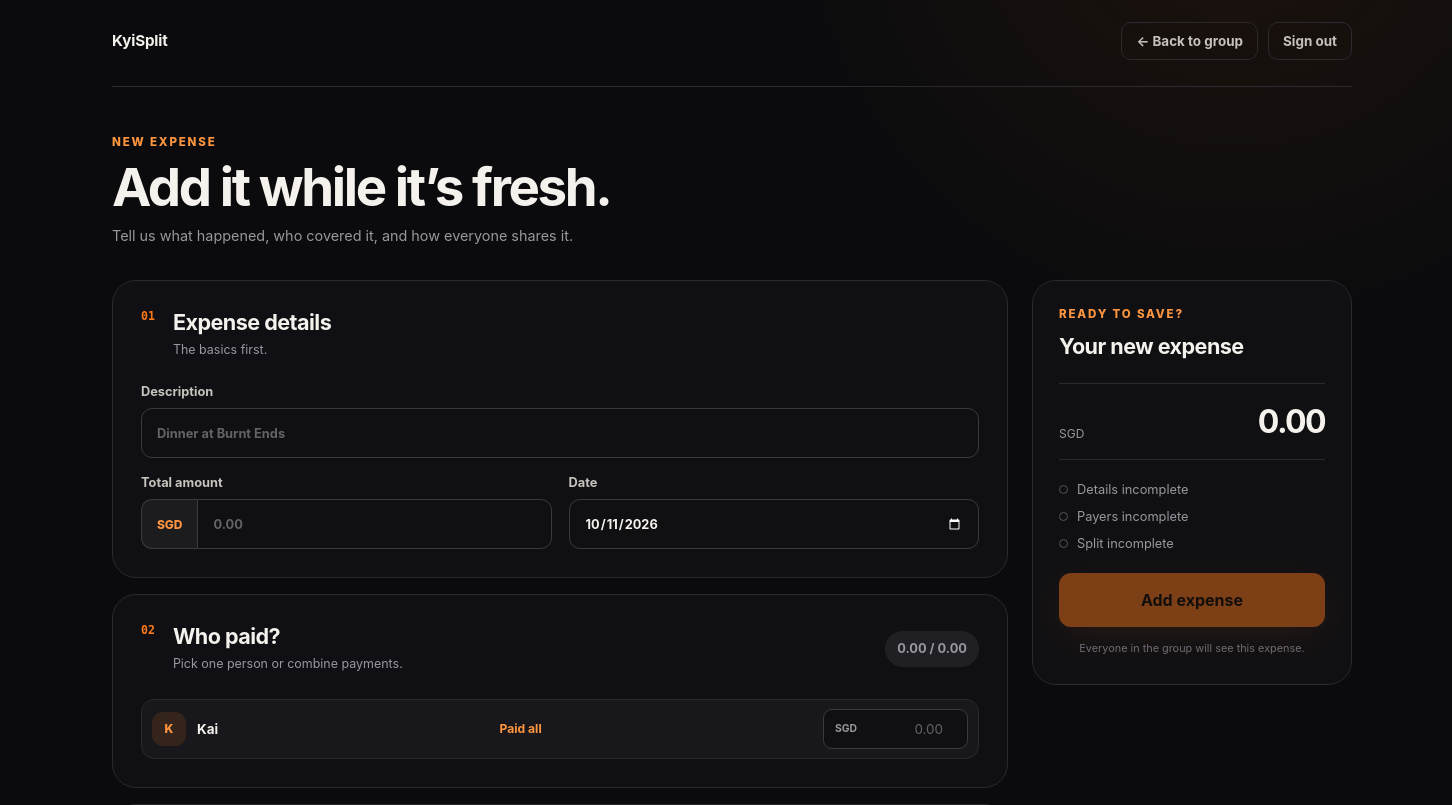
Scenario: describes review readiness without relying on color
The image size is (1452, 805).
Expected: the list item "Details incomplete" is shown, [1059, 482, 1188, 497]
Expected: the list item "Payers incomplete" is shown, [1059, 509, 1188, 524]
Type "Dinner" into the field labelled "Description". click: (560, 433)
box: [141, 408, 979, 458]
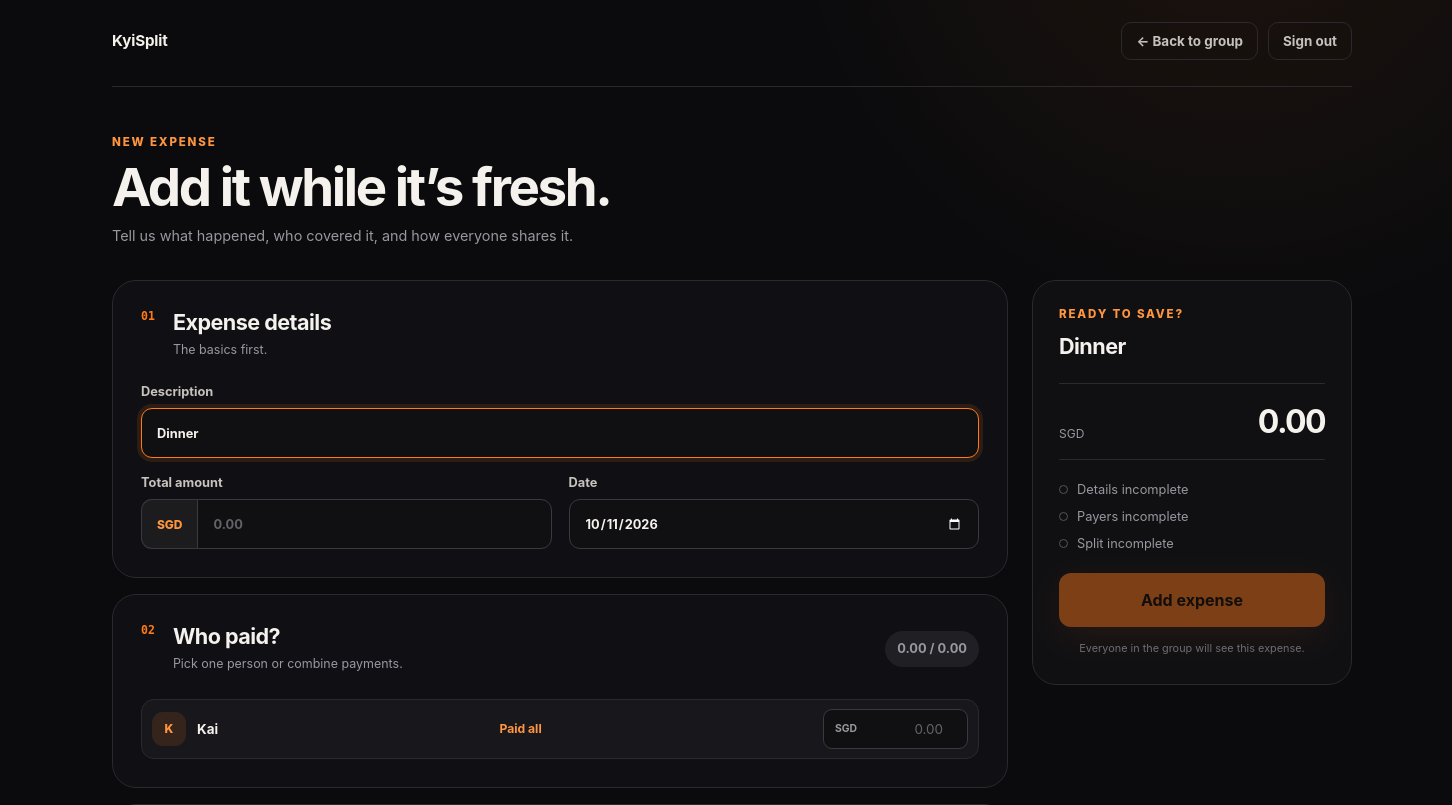
Type "10" into the number field labelled "Total amount". click: (374, 524)
box: [197, 499, 552, 549]
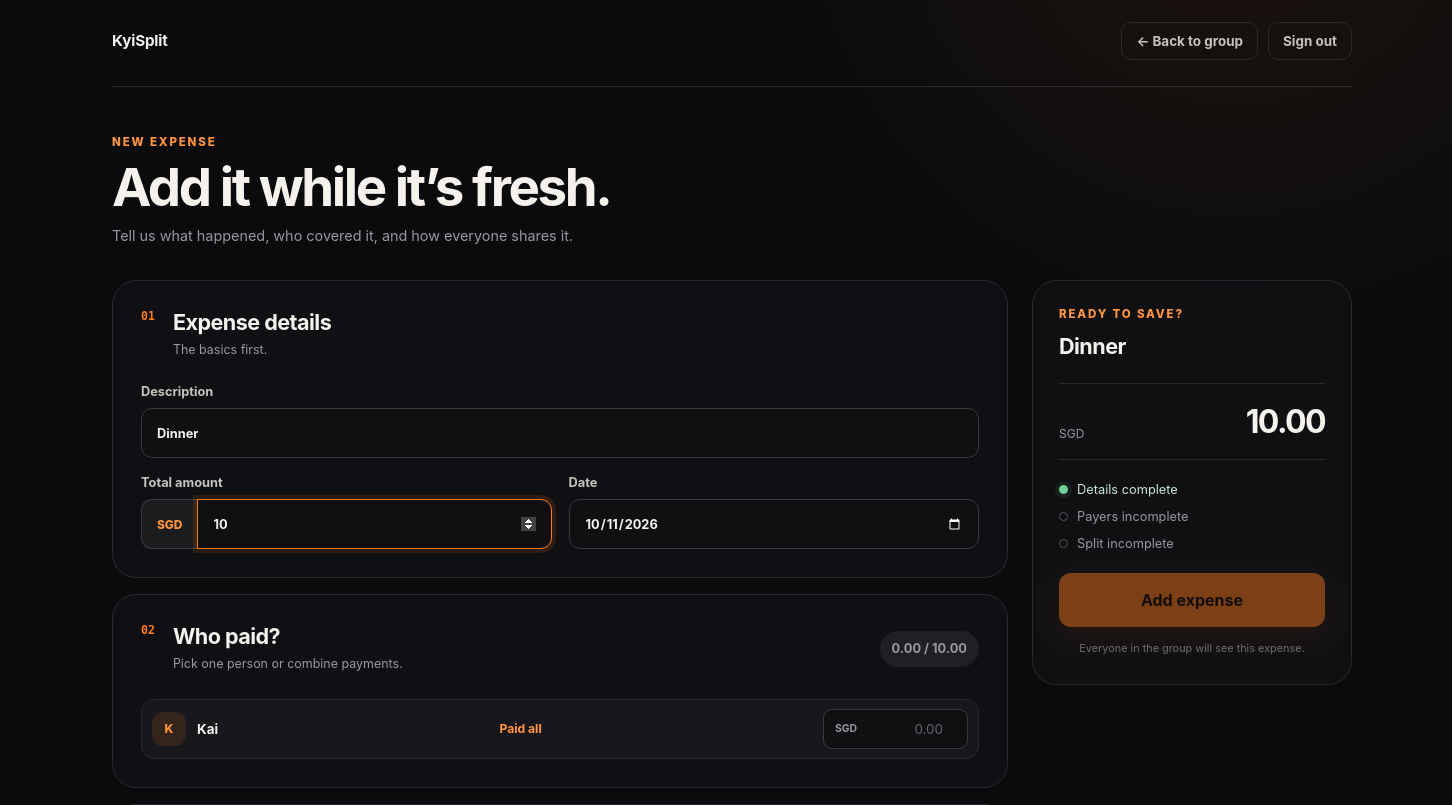
Click the button with aria-label "Paid all for Kai". click: (521, 729)
box: [499, 721, 542, 736]
(page scrolled)
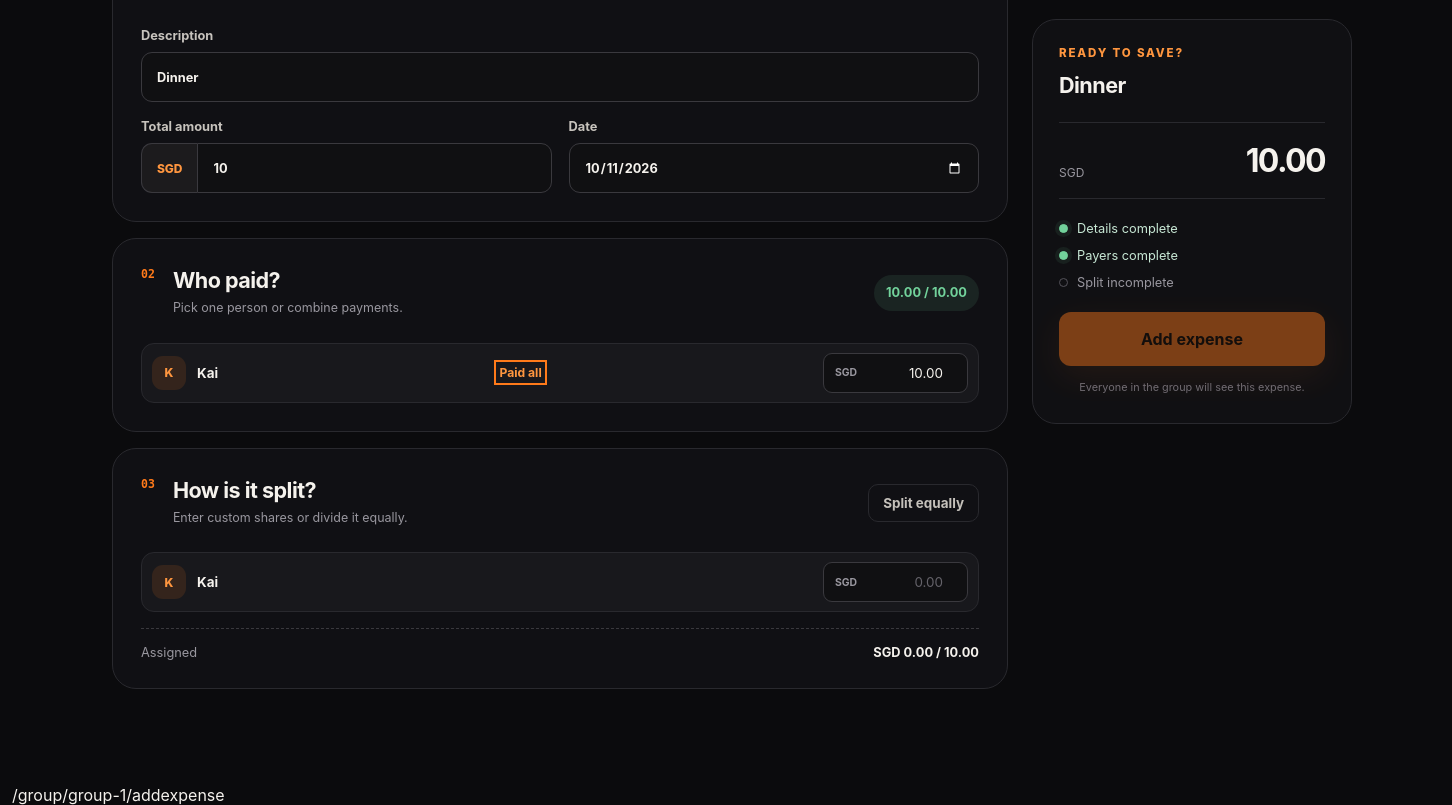
Click the button "Split equally". click: (924, 502)
box: [868, 484, 979, 522]
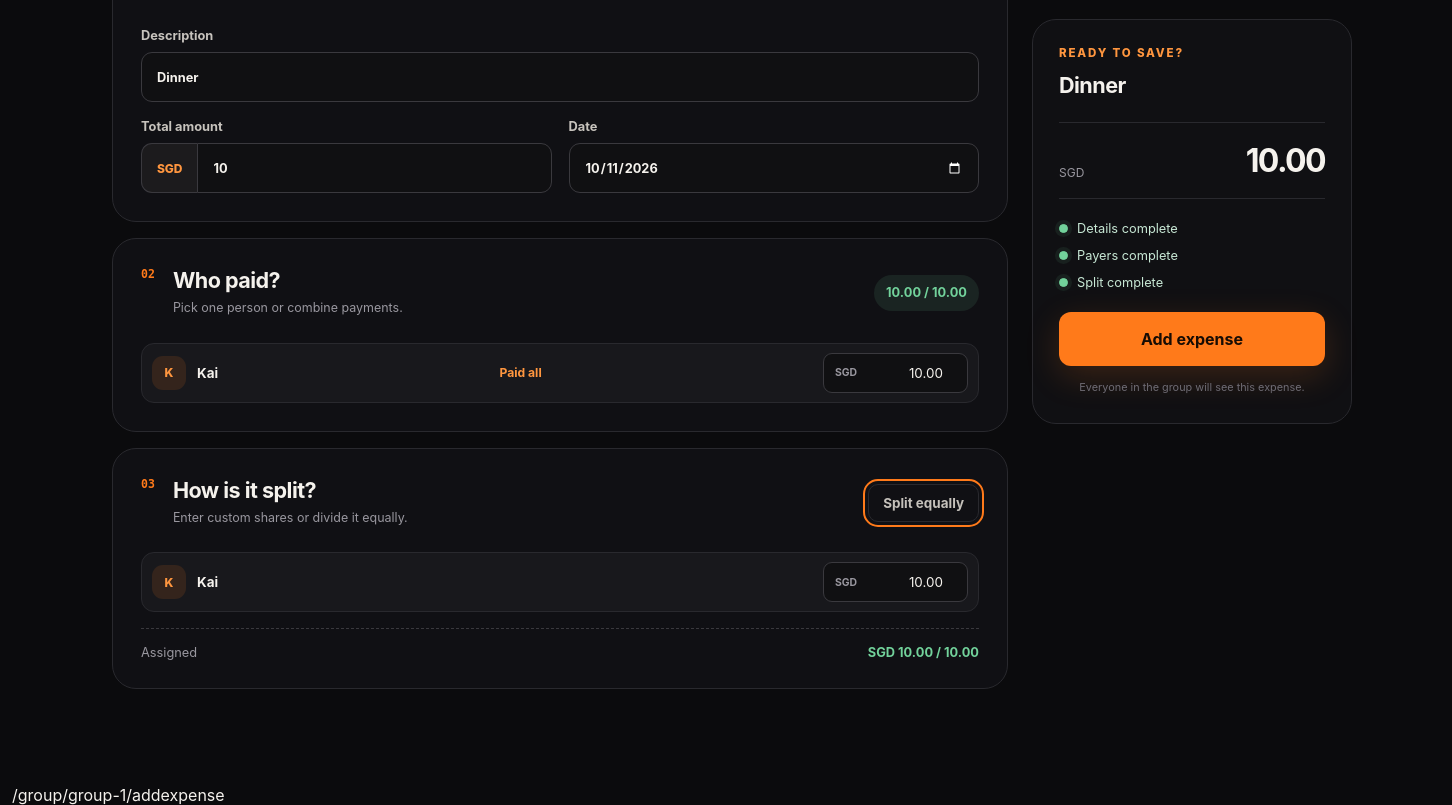
Result: the list item "Details complete" is shown at [1059, 221, 1178, 236]
Result: the list item "Payers complete" is shown at [1059, 248, 1178, 263]
Result: the list item "Split complete" is shown at [1059, 275, 1163, 290]
